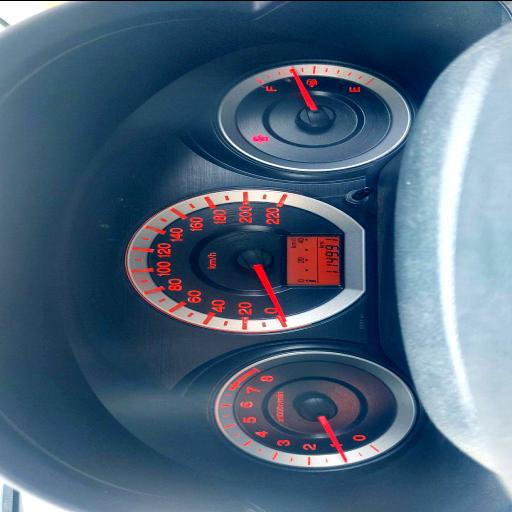tachometer: (209, 350, 415, 466)
